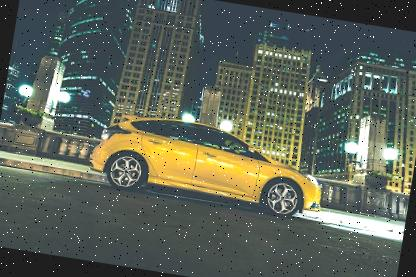car: (80, 102, 330, 225)
